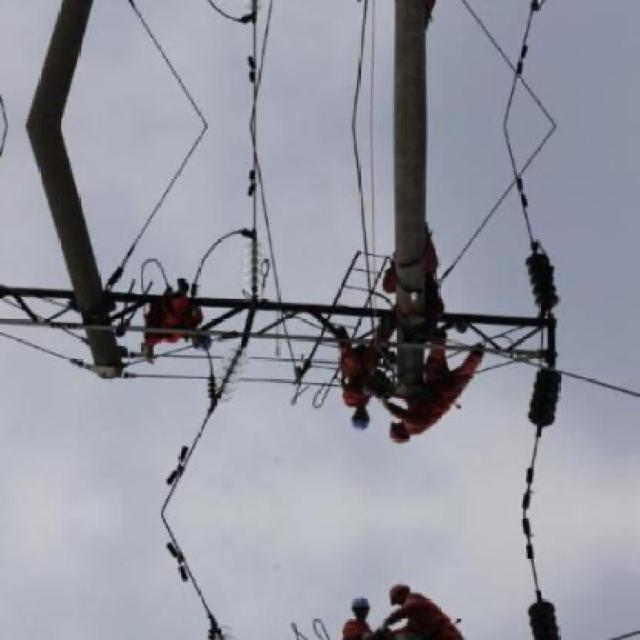con casco: (358, 416, 416, 462), (331, 389, 375, 445)
